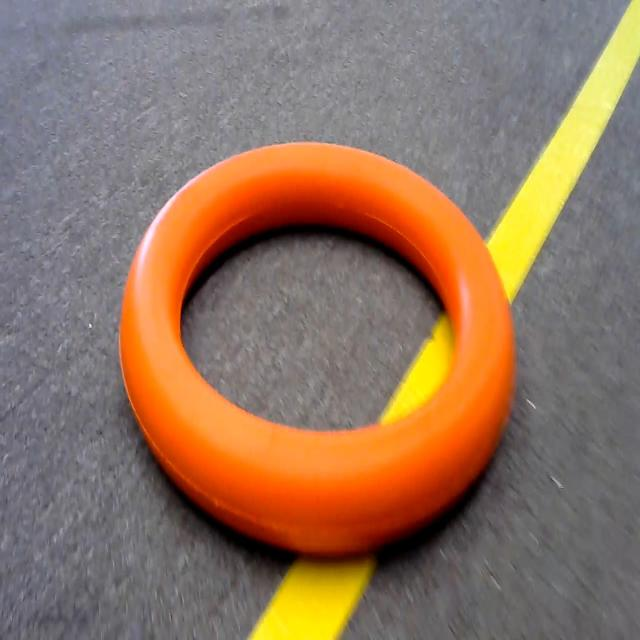note: (108, 119, 542, 567)
